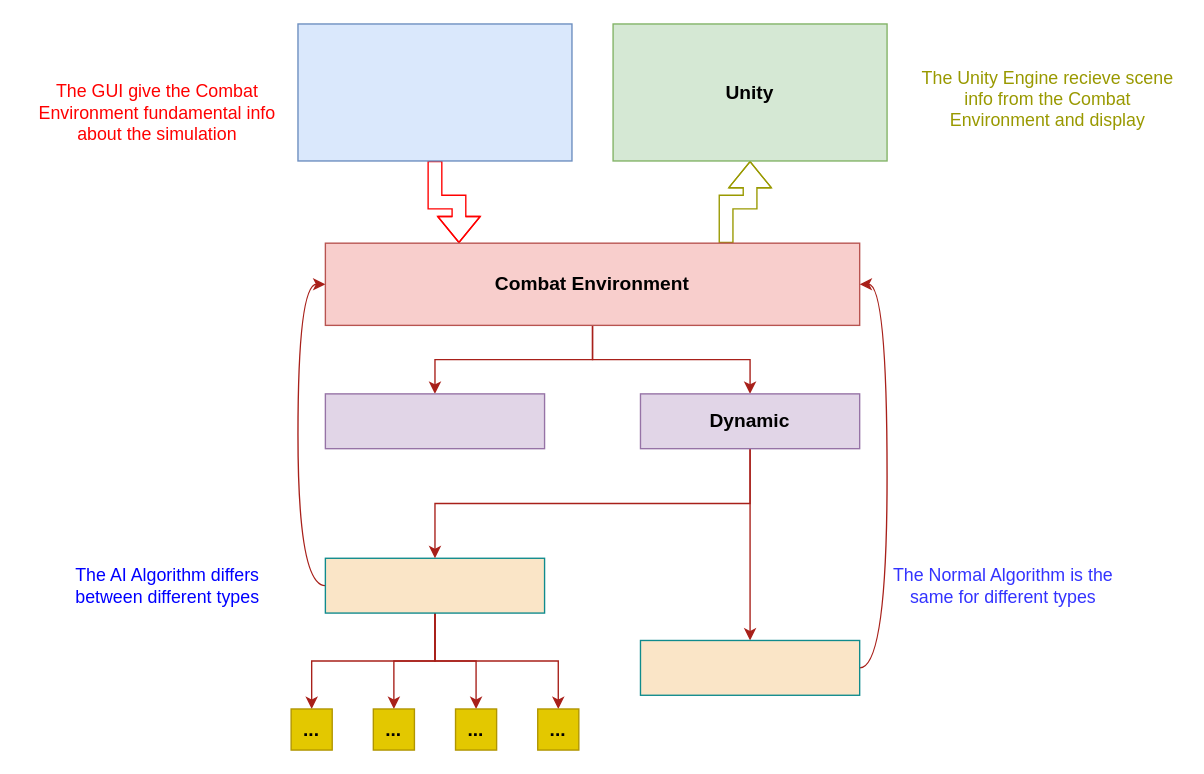
This 1204x774 diagram has some shape labels left out. The centre of each missing label's shape, as x and y in pixels:
AI Algorithm: (x=434, y=585)
Damage Judge: (x=434, y=421)
GUI: (x=434, y=92)
Normal Algorithm: (x=749, y=667)
